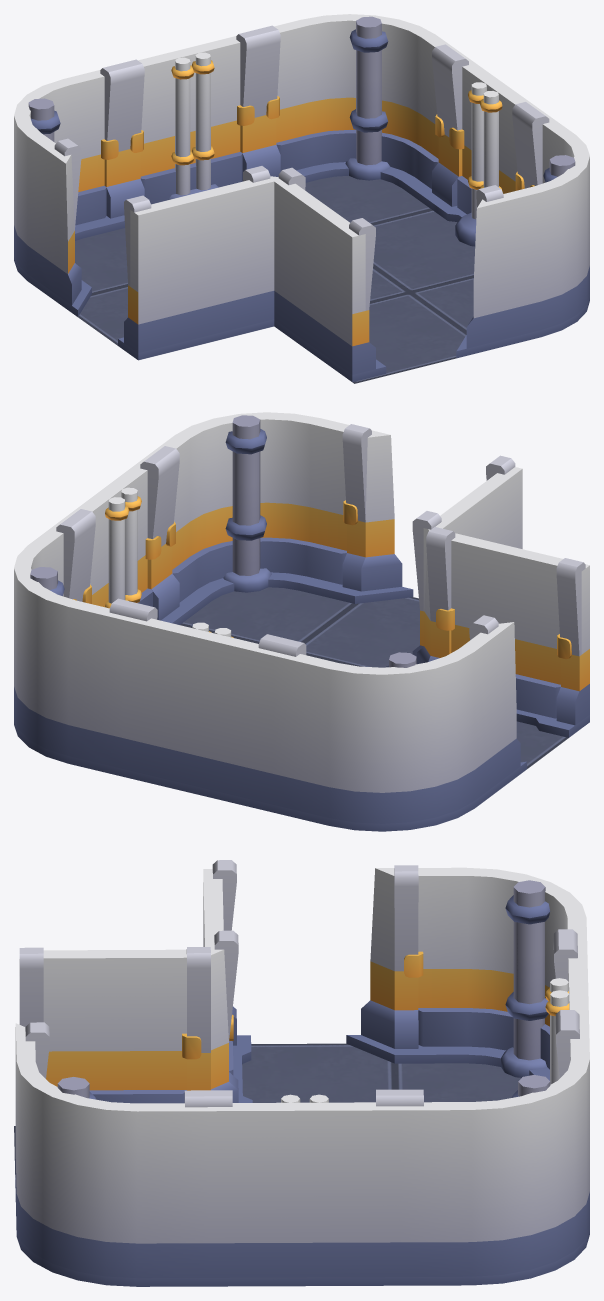
The model's file is room-corner.001_lev4.glb.
3 renders of one model, top to bottom at view 1: azimuth 30°, elevation 25°; view 2: azimuth 150°, elevation 25°; view 3: azimuth 270°, elevation 25°, orthographic. The views are drawn at different scales.
Visible parts, largest first — view 1: room-corner.001_lev4; view 2: room-corner.001_lev4; view 3: room-corner.001_lev4.
Part boxes in pixels (x1,y1,x2,y2): room-corner.001_lev4: (14, 14, 589, 383); room-corner.001_lev4: (14, 412, 589, 831); room-corner.001_lev4: (14, 860, 589, 1286).
Size of the model in its own units: 36.21 by 12.75 by 36.17.
1 material, 1 textured.
